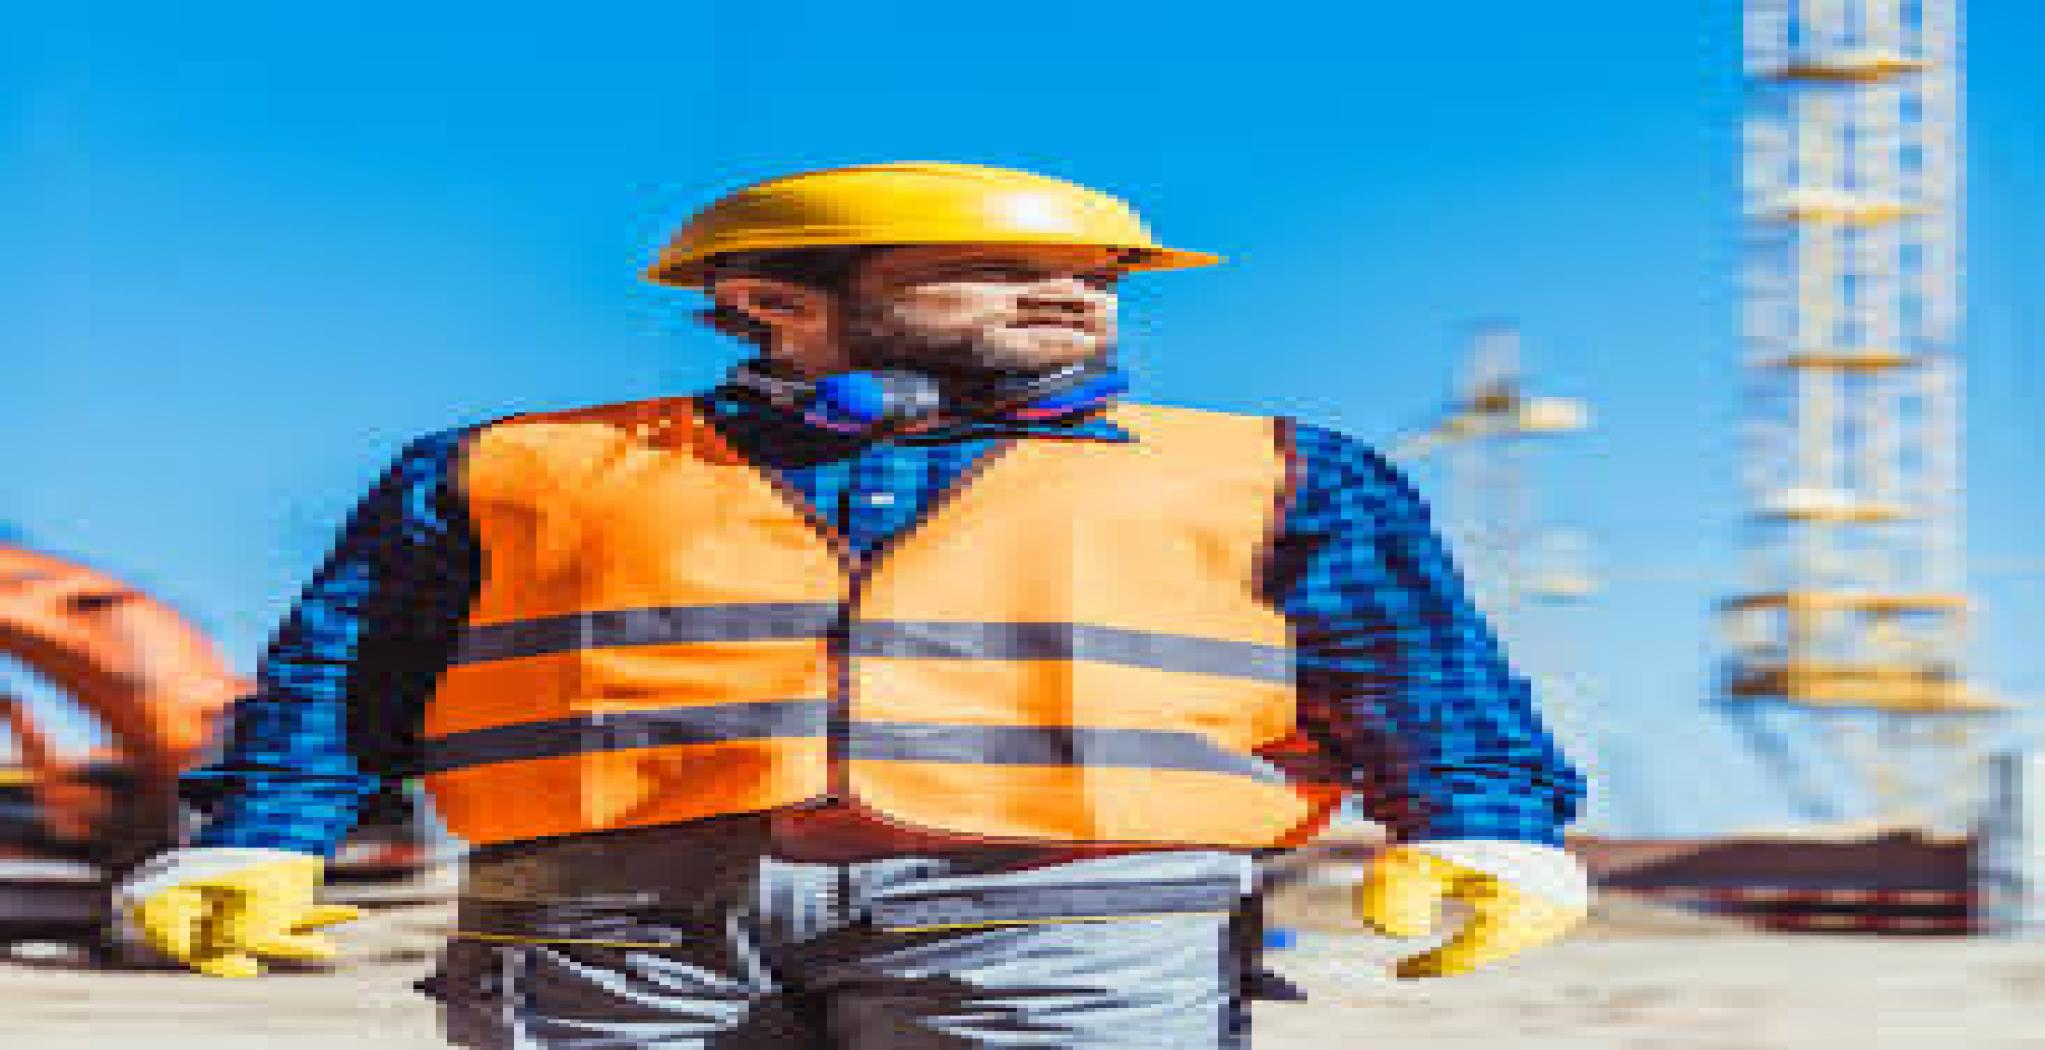gloved: (1341, 836, 1587, 978), (100, 844, 358, 978)
